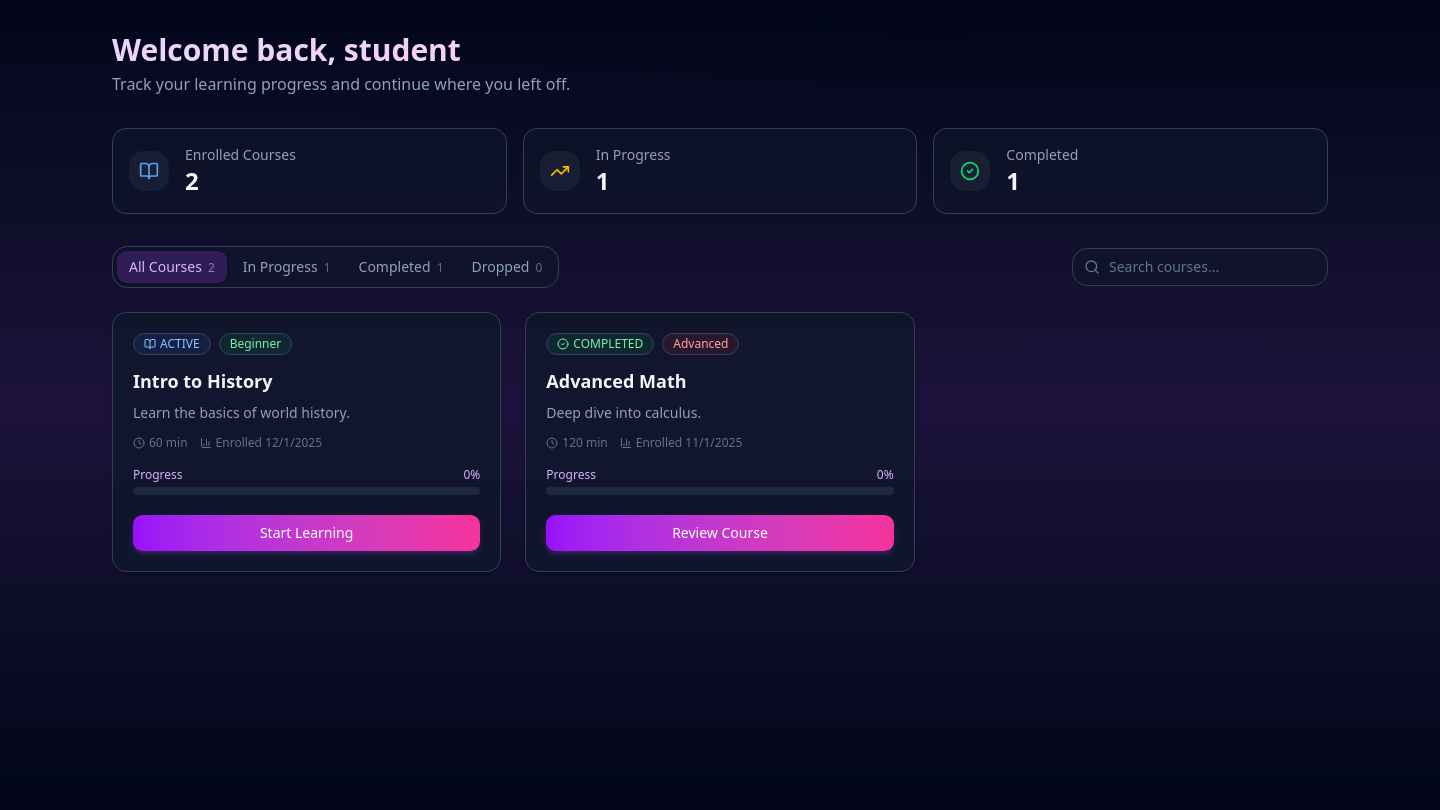
Test case: Learner Dashboard (F3.1) › filters courses by search input
Expected: the heading "Intro to History" is shown, [133,369,272,393]
Type "Math" into the field with placeholder "Search courses...". click: (1200, 267)
box: [1072,248,1328,286]
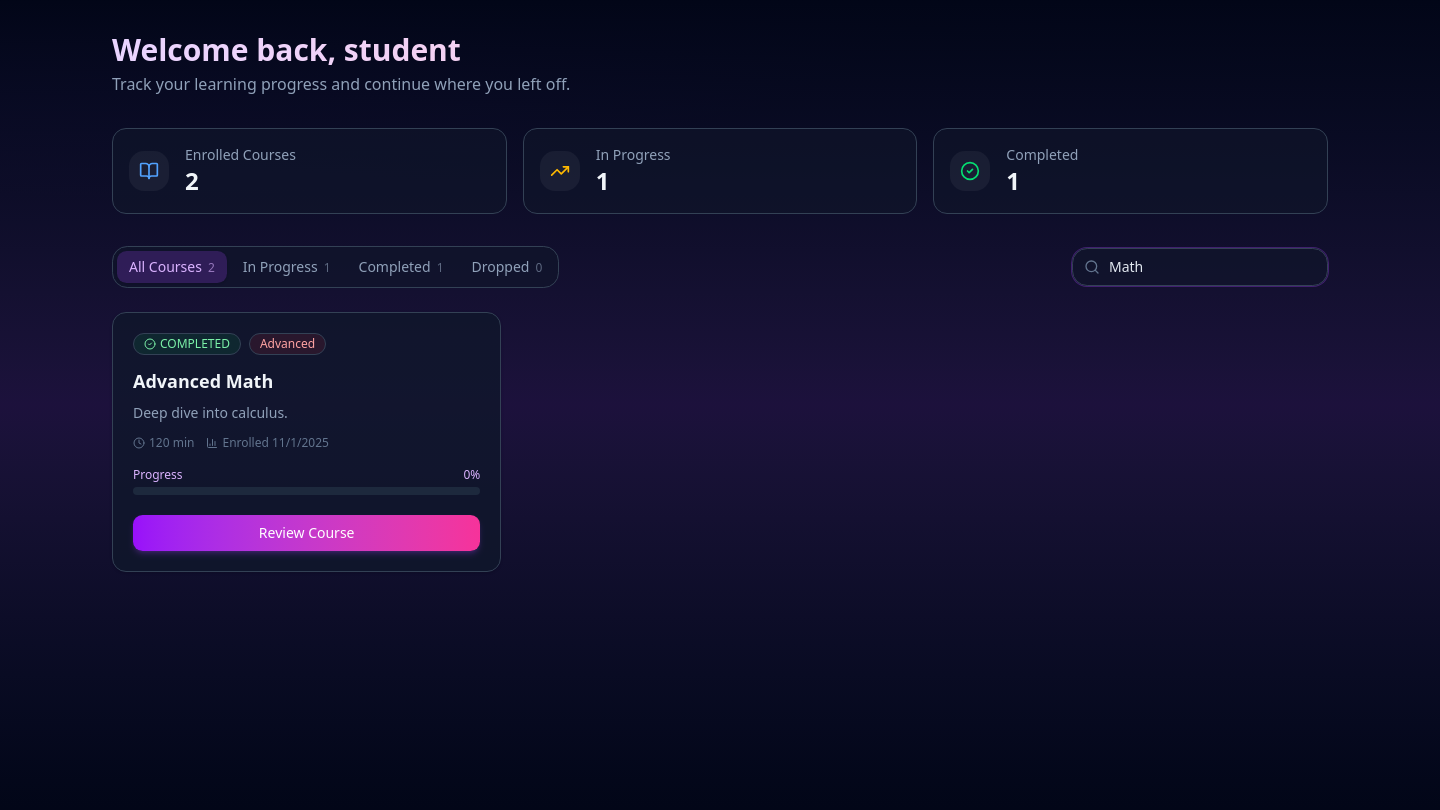
Expected: the heading "Advanced Math" is shown, [133,369,273,393]
Expected: the heading "Intro to History" is gone
